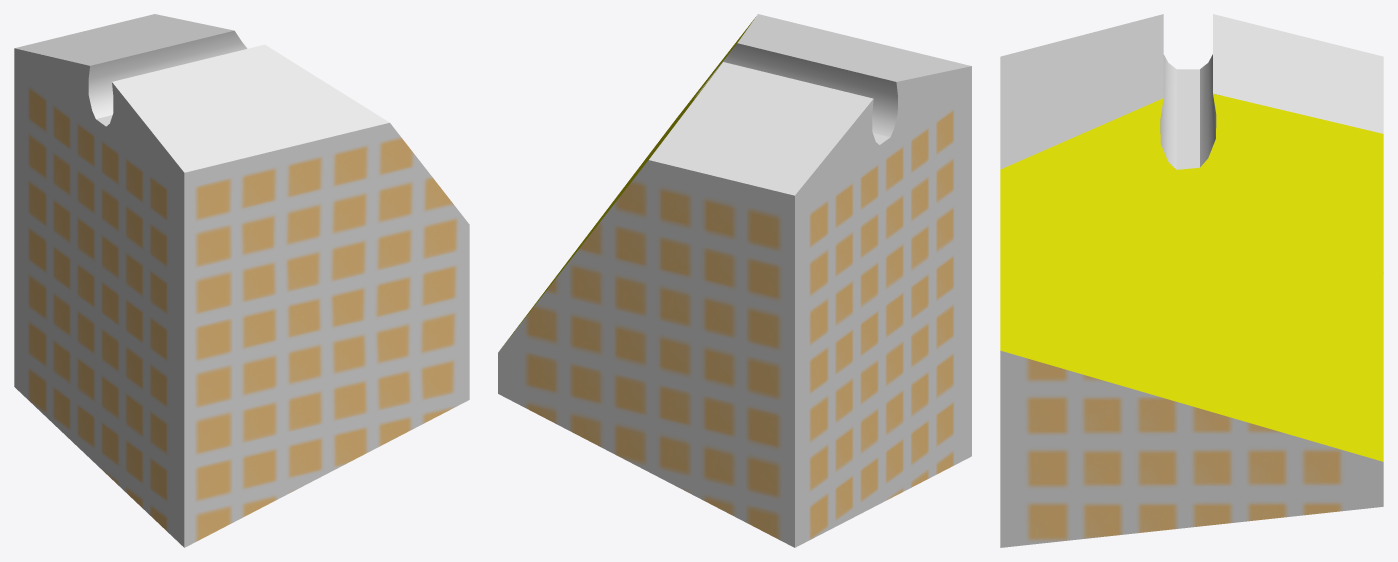
The model's file is st1Shard3.fbx.
3 views of the same model, side by side, from view 1: azimuth 30°, elevation 25°; view 2: azimuth 150°, elevation 25°; view 3: azimuth 270°, elevation 25° (orthographic). The views are drawn at different scales.
Visible parts, largest first — view 1: shard48; view 2: shard48; view 3: shard48.
Part boxes in pixels (box(x1,y1,x2,y2)): shard48: box(14, 14, 469, 547); shard48: box(498, 14, 971, 547); shard48: box(1000, 14, 1383, 547).
Size of the model in its own units: 0.0992 by 0.1373 by 0.1025.
Materials: 2 (1 with a texture image).
